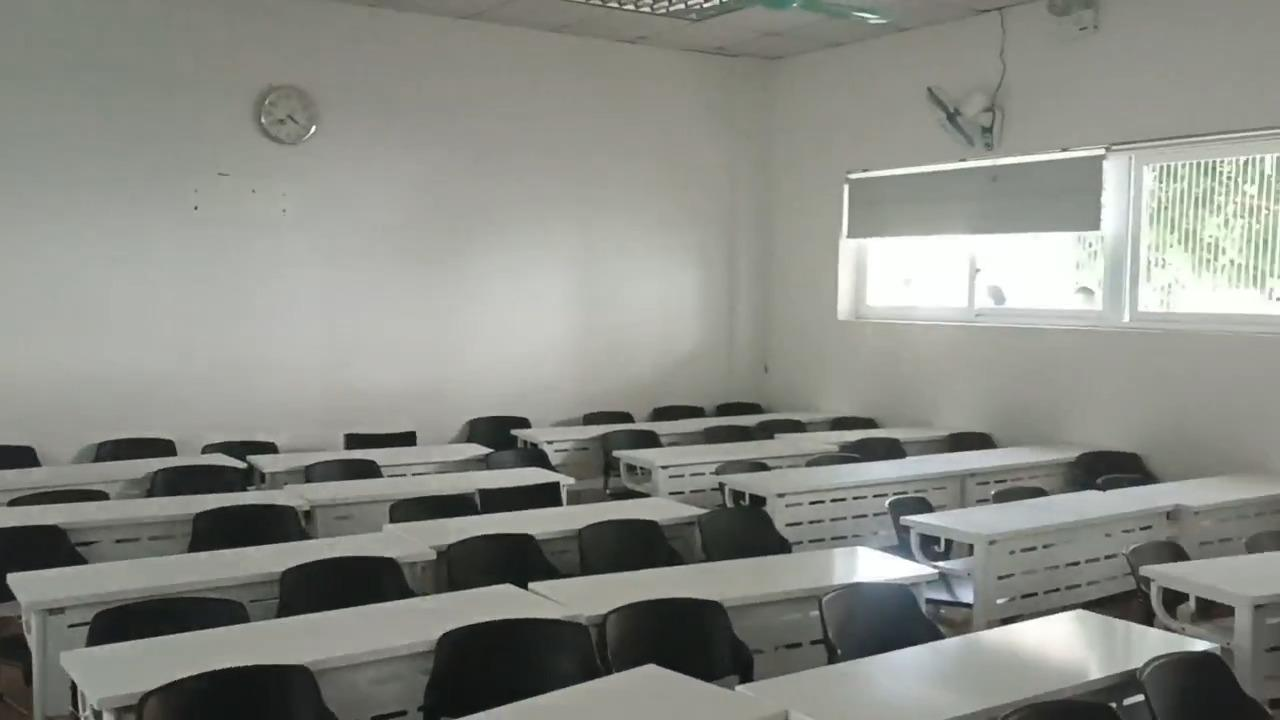chair: (591, 595, 766, 685), (412, 613, 608, 692), (1115, 626, 1280, 718), (804, 569, 954, 666), (133, 662, 327, 720), (901, 59, 1016, 156), (267, 558, 446, 620), (77, 593, 265, 651), (424, 524, 571, 598), (570, 515, 699, 588), (173, 503, 320, 559), (681, 502, 798, 570), (1114, 525, 1200, 598), (372, 490, 490, 541), (881, 480, 949, 559), (149, 457, 260, 501), (0, 525, 83, 578), (476, 482, 577, 525), (995, 686, 1119, 720), (933, 422, 1017, 468), (295, 447, 386, 487), (586, 425, 671, 466), (472, 442, 561, 481), (0, 432, 64, 482), (1065, 430, 1142, 471), (458, 404, 536, 444), (844, 435, 929, 471), (84, 422, 162, 459), (205, 428, 295, 458), (5, 486, 117, 510), (802, 446, 869, 482), (695, 421, 772, 450), (706, 453, 767, 486), (1241, 515, 1280, 565), (1087, 469, 1157, 496), (576, 401, 643, 429), (756, 412, 811, 442), (648, 395, 713, 420), (818, 408, 877, 435), (709, 393, 770, 416)
clock: (233, 68, 344, 160)
table: (7, 535, 435, 703), (47, 581, 565, 702), (741, 604, 1205, 717), (902, 489, 1160, 620), (525, 544, 947, 623), (712, 458, 957, 546), (1143, 547, 1278, 704), (460, 664, 787, 718), (389, 497, 707, 546), (1113, 471, 1279, 557), (606, 433, 837, 493), (2, 486, 306, 527), (294, 464, 566, 505), (911, 445, 1092, 492), (1, 453, 250, 482), (250, 440, 487, 469), (513, 417, 765, 442), (734, 407, 864, 430), (816, 424, 950, 445), (344, 432, 416, 445)
